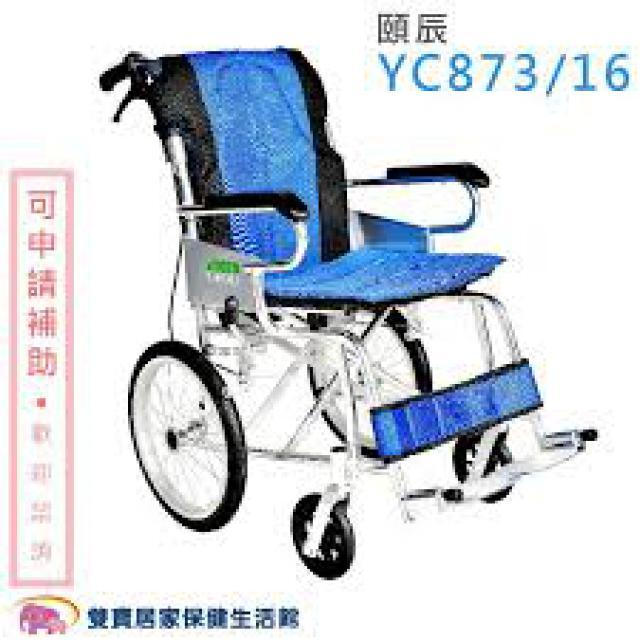wheelchair: (74, 34, 606, 580)
